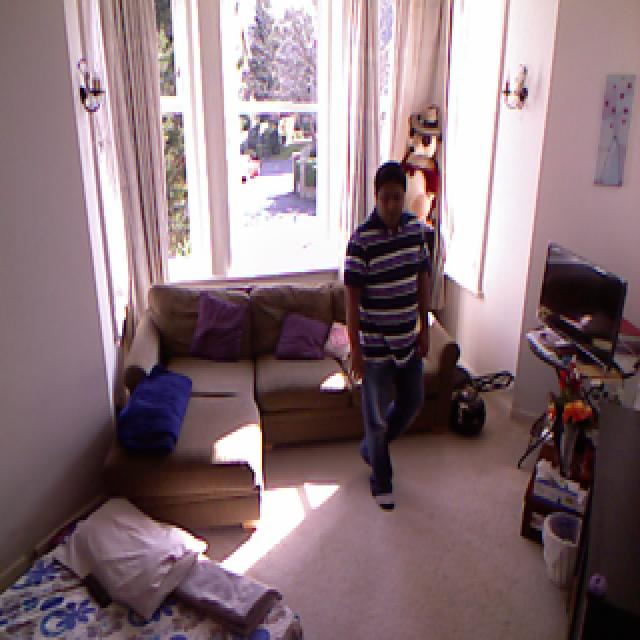standing: (341, 164, 432, 518)
